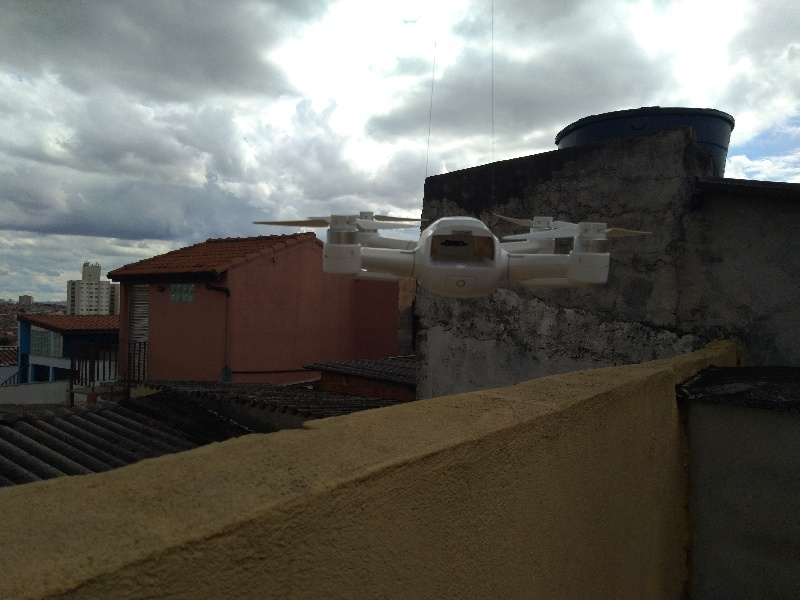drone: (264, 194, 651, 307)
